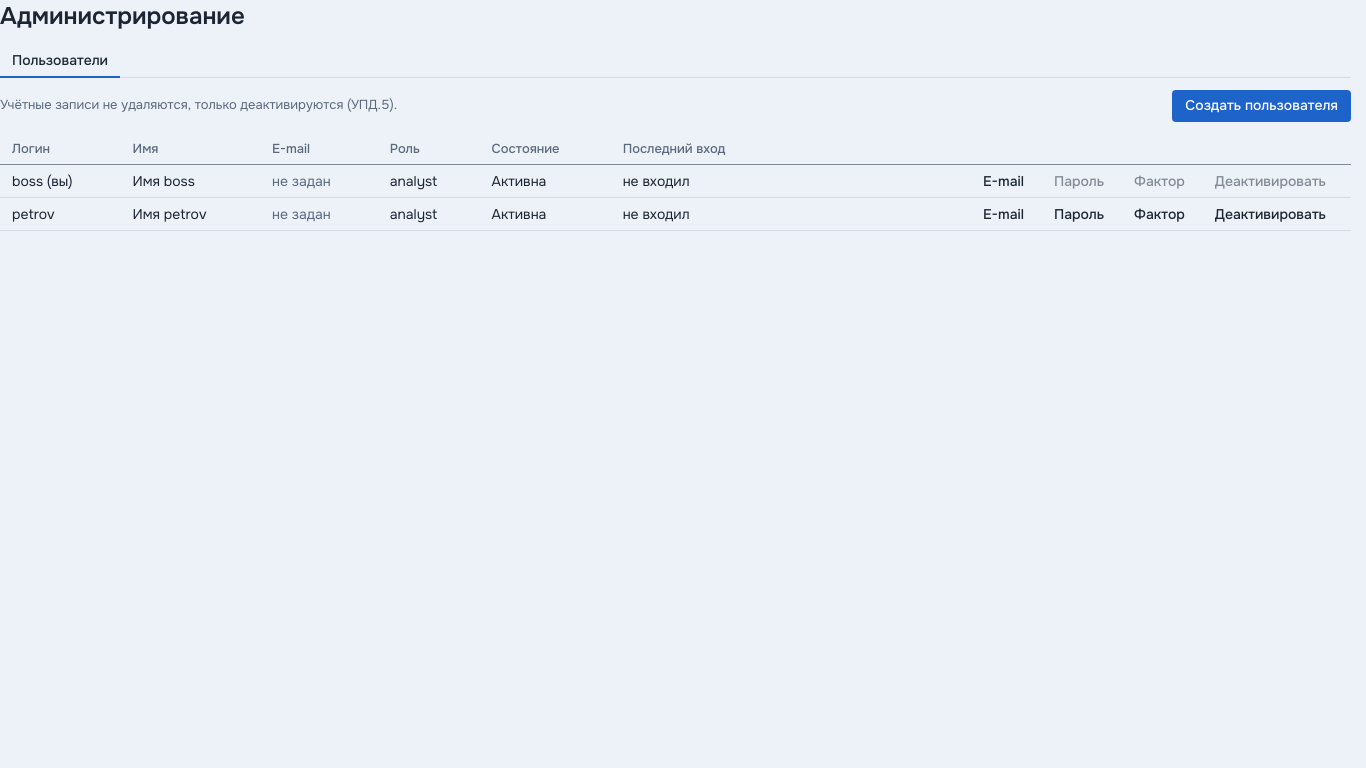
Test: администрирование › диалог e-mail: пробелы по краям убираются, пустое значение допустимо, ошибка сервера остаётся в диалоге
Expected: the text "petrov" is shown, [0,198,120,231]
Click the button with aria-label "E-mail: petrov".
click(1003, 214)  # box [970,198,1037,230]
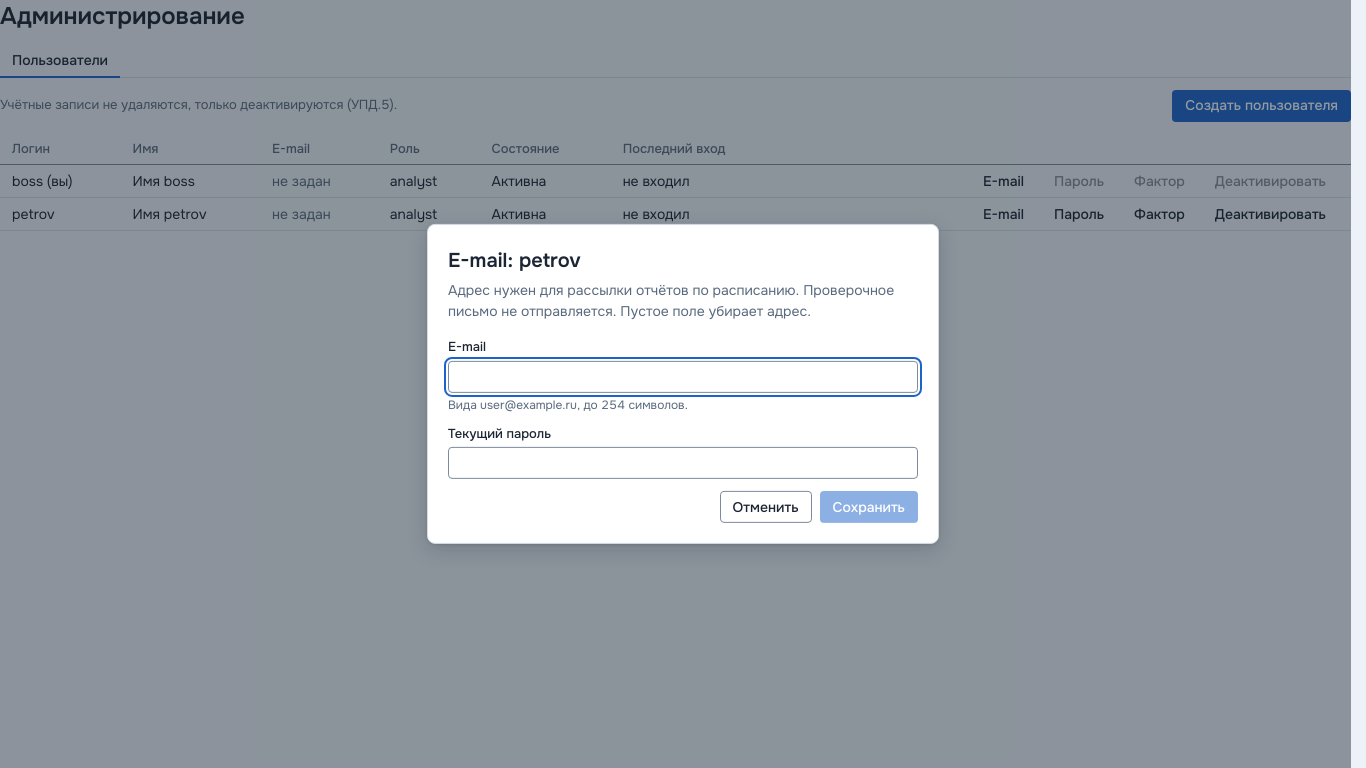
Type "плохой" into the field labelled "E-mail".
click(683, 377); type("плохой")  # box [448,361,918,393]
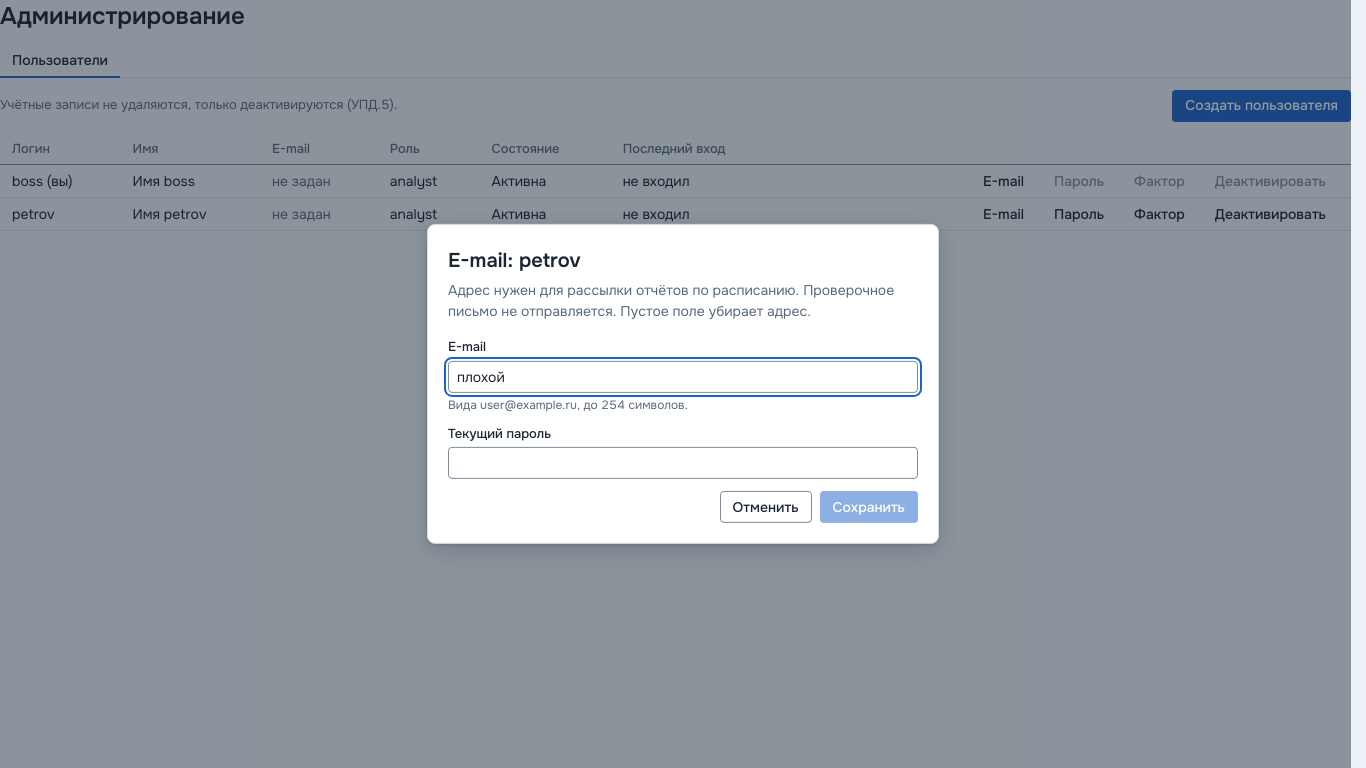
Now the button "Сохранить" is disabled, box [820,491,918,523]
Type "секрет" into the password field labelled "Текущий пароль".
click(683, 463); type("секрет")  # box [448,447,918,479]
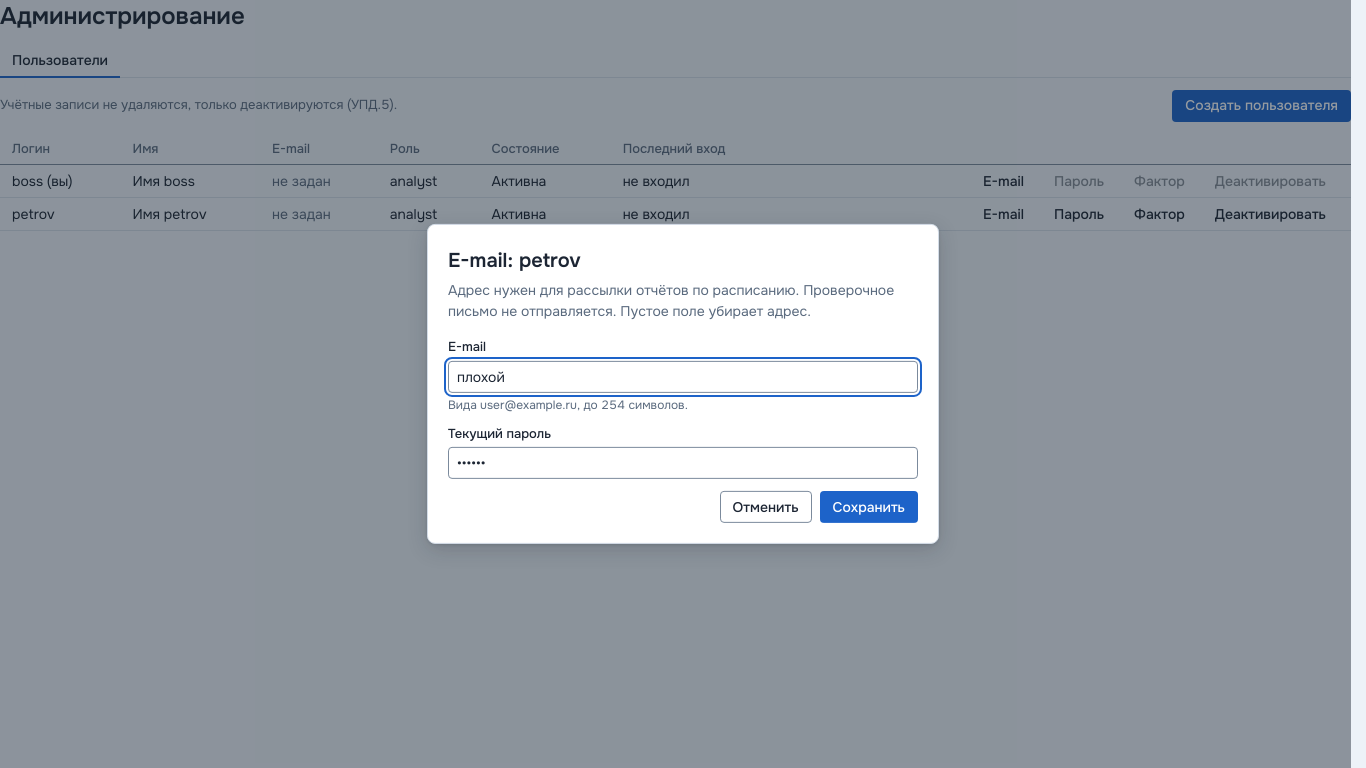
Click the button "Сохранить".
click(869, 507)  # box [820,491,918,523]
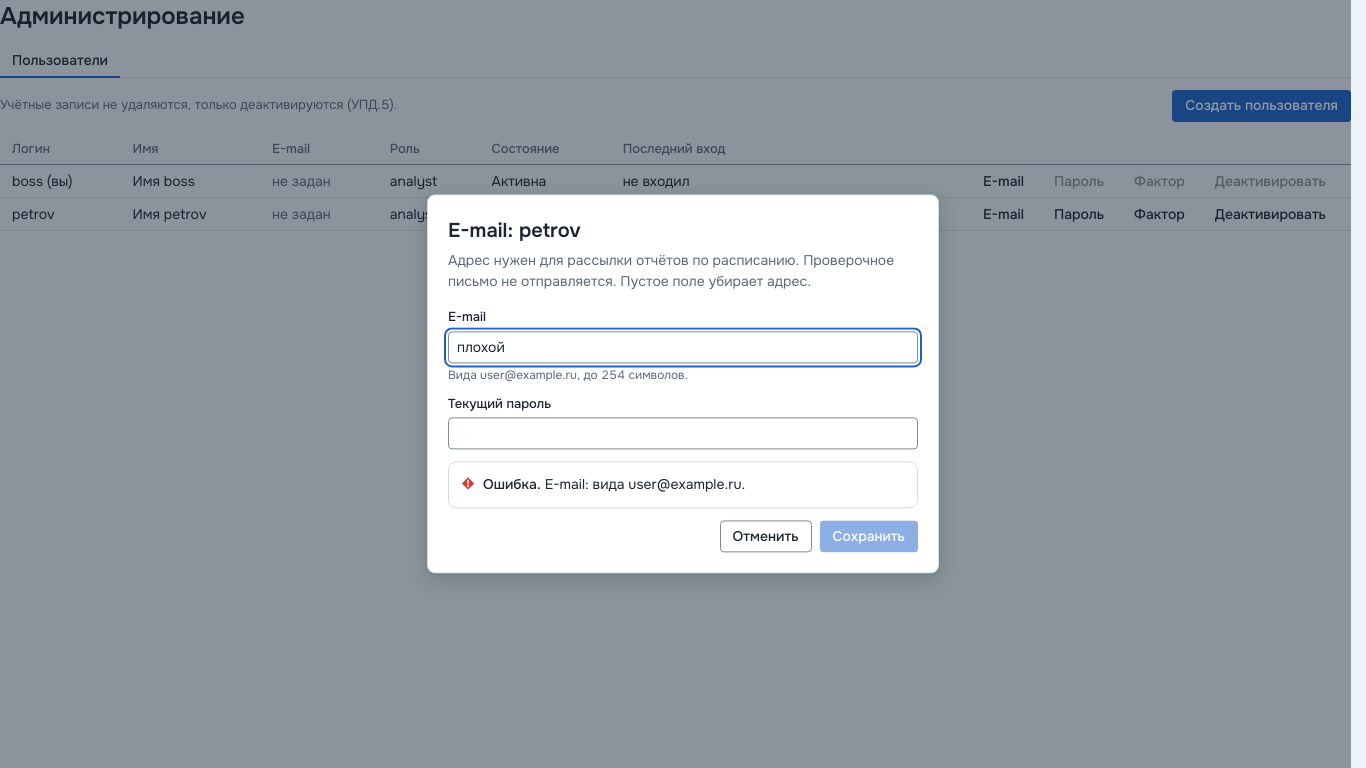
Now the text "Ошибка. E-mail: вида user@example.ru." is shown, box [483,475,745,496]
Replace the text in the field labelled "E-mail" with " petrov@example.ru " at (683, 347), box [448,331,918,363]
Type "секрет" into the password field labelled "Текущий пароль".
click(683, 434); type("секрет")  # box [448,418,918,450]
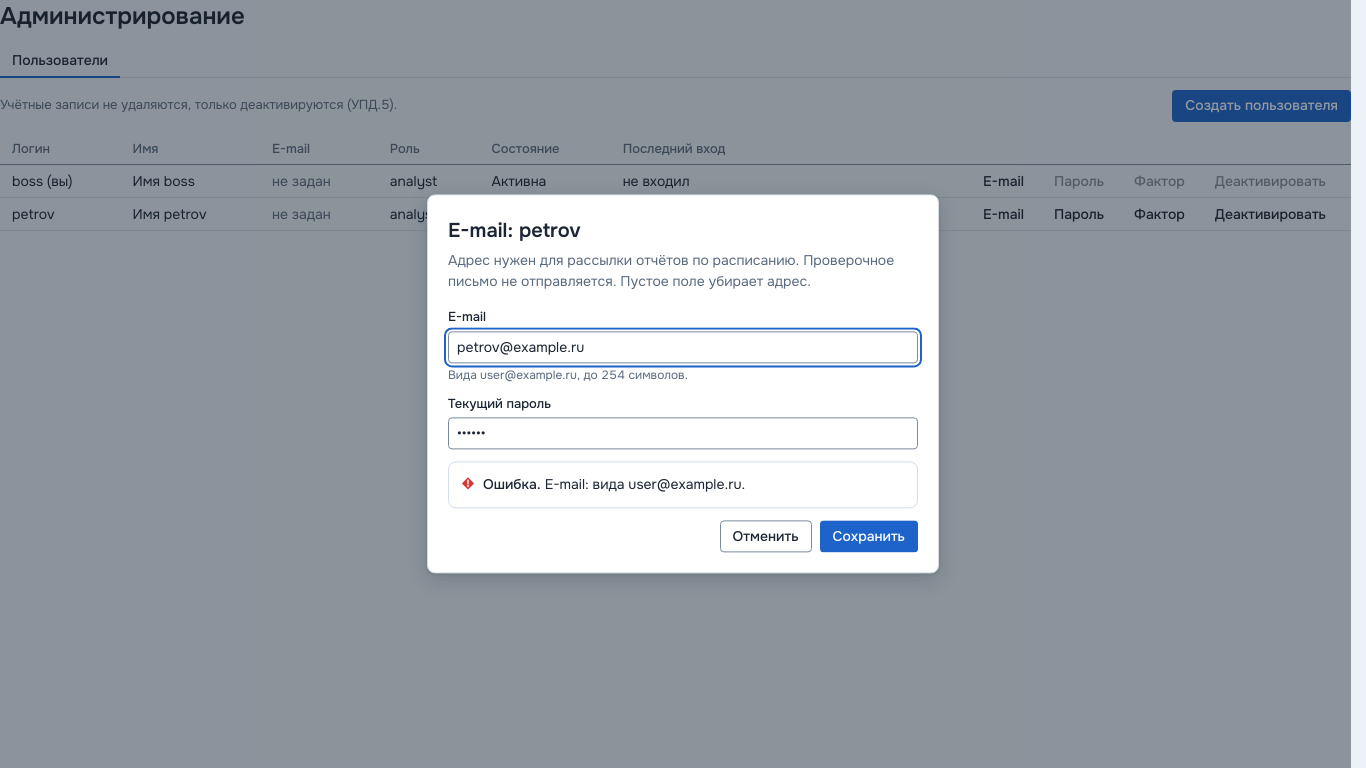
Click the button "Сохранить".
click(869, 537)  # box [820,521,918,553]
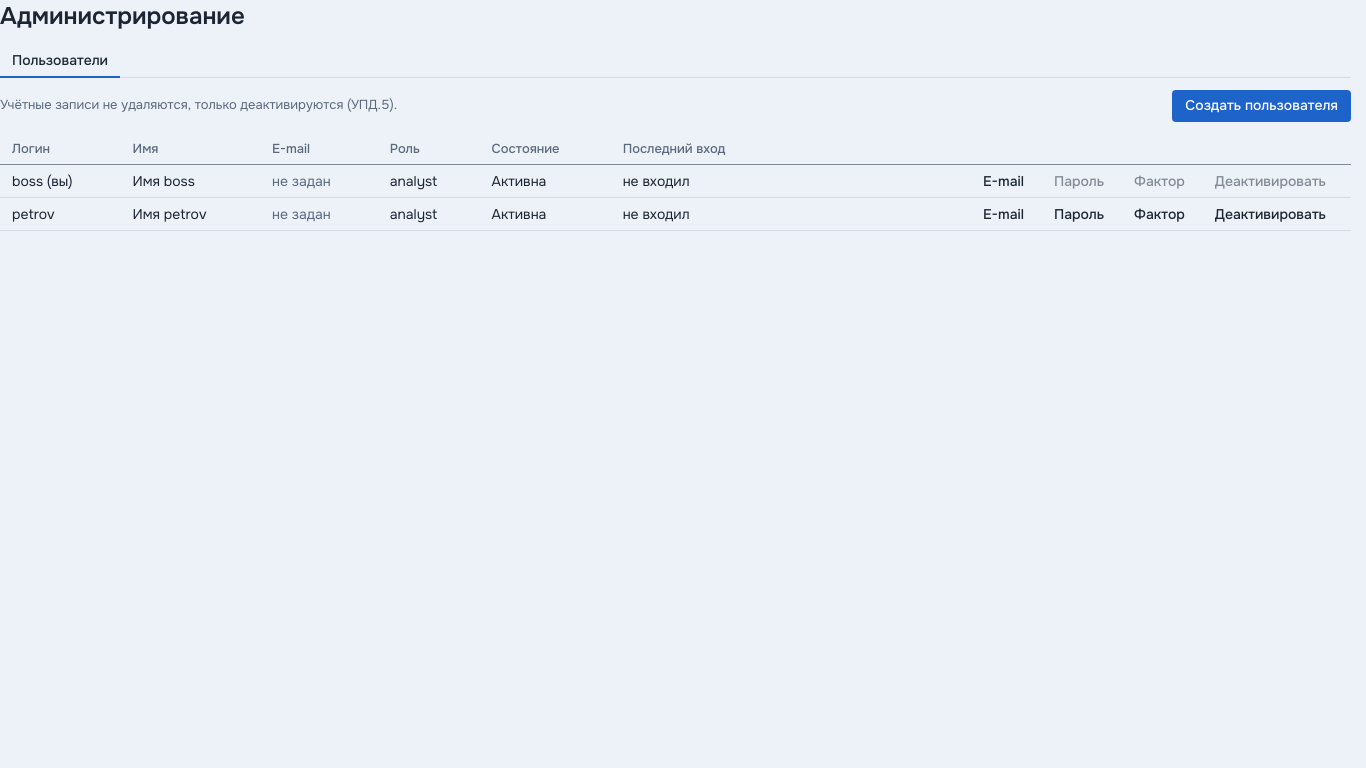
Now the dialog is gone
